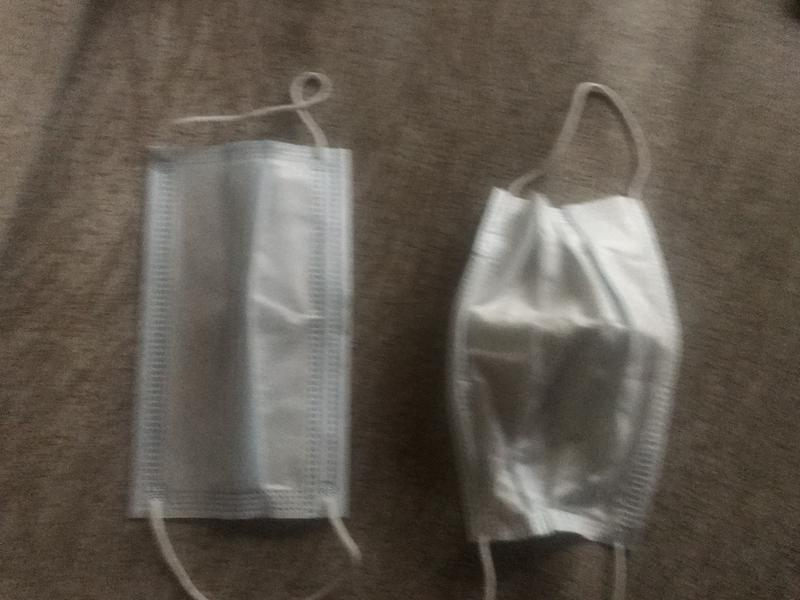medical_mask: (445, 84, 682, 600), (137, 71, 362, 600)
